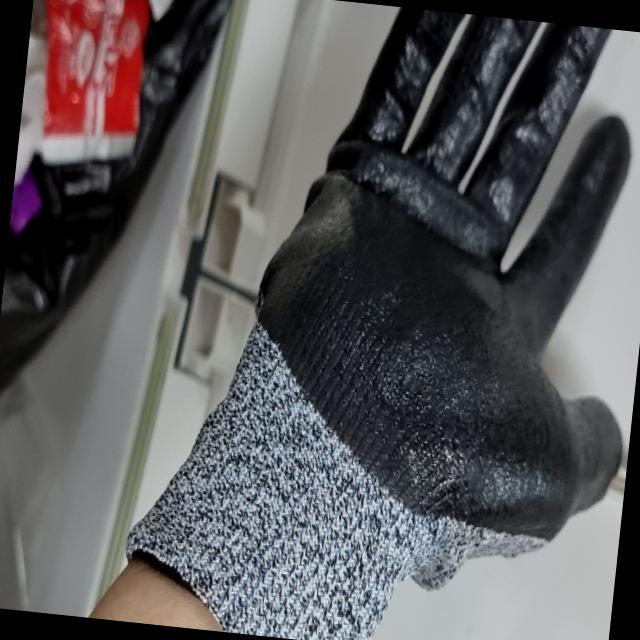Gloves: (115, 1, 632, 640)
